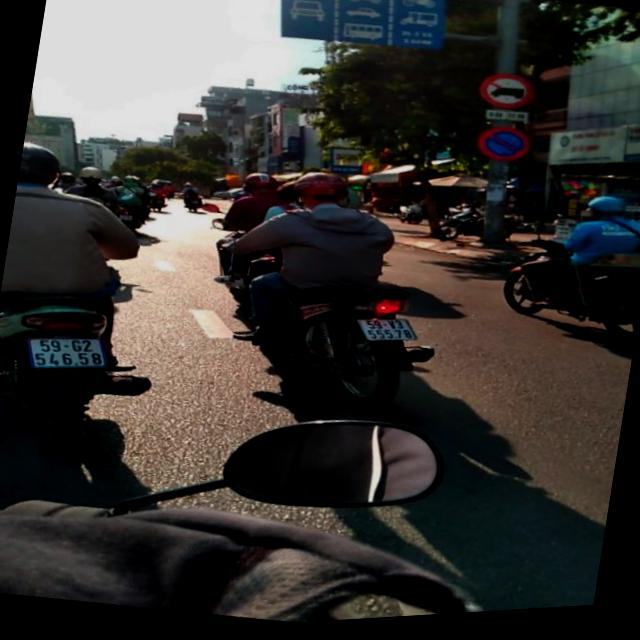Cam do xe: (473, 127, 534, 173)
Cam xe tai: (476, 73, 538, 120)
